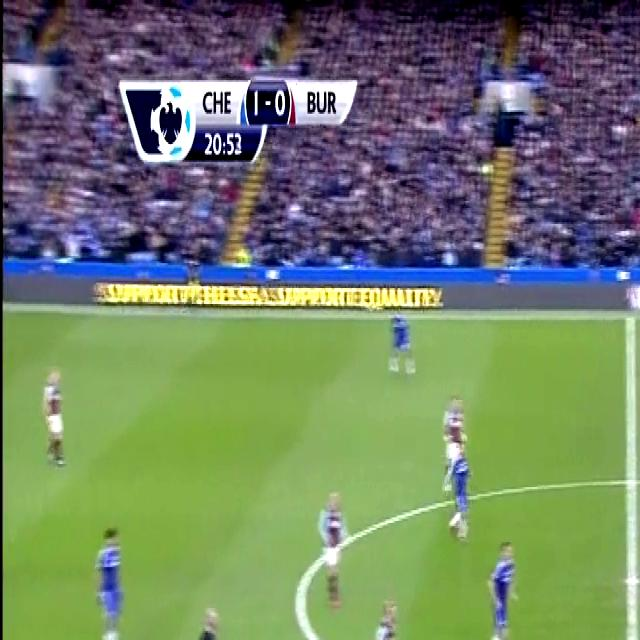referee: (195, 590, 228, 640)
soccer-player: (34, 356, 72, 474), (92, 519, 127, 640), (316, 482, 350, 604), (482, 530, 518, 640), (442, 437, 476, 541), (390, 298, 414, 376), (372, 592, 410, 640)
